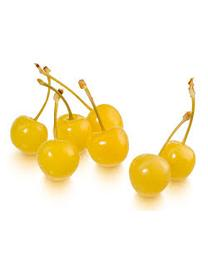cherry: (36, 138, 80, 181), (129, 154, 171, 197), (87, 127, 129, 166), (159, 139, 196, 182), (11, 115, 49, 155), (56, 112, 92, 152), (86, 104, 122, 134)
